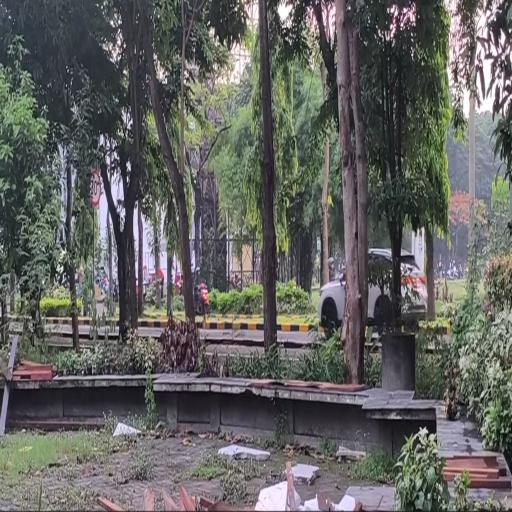Motor: (194, 269, 210, 316)
